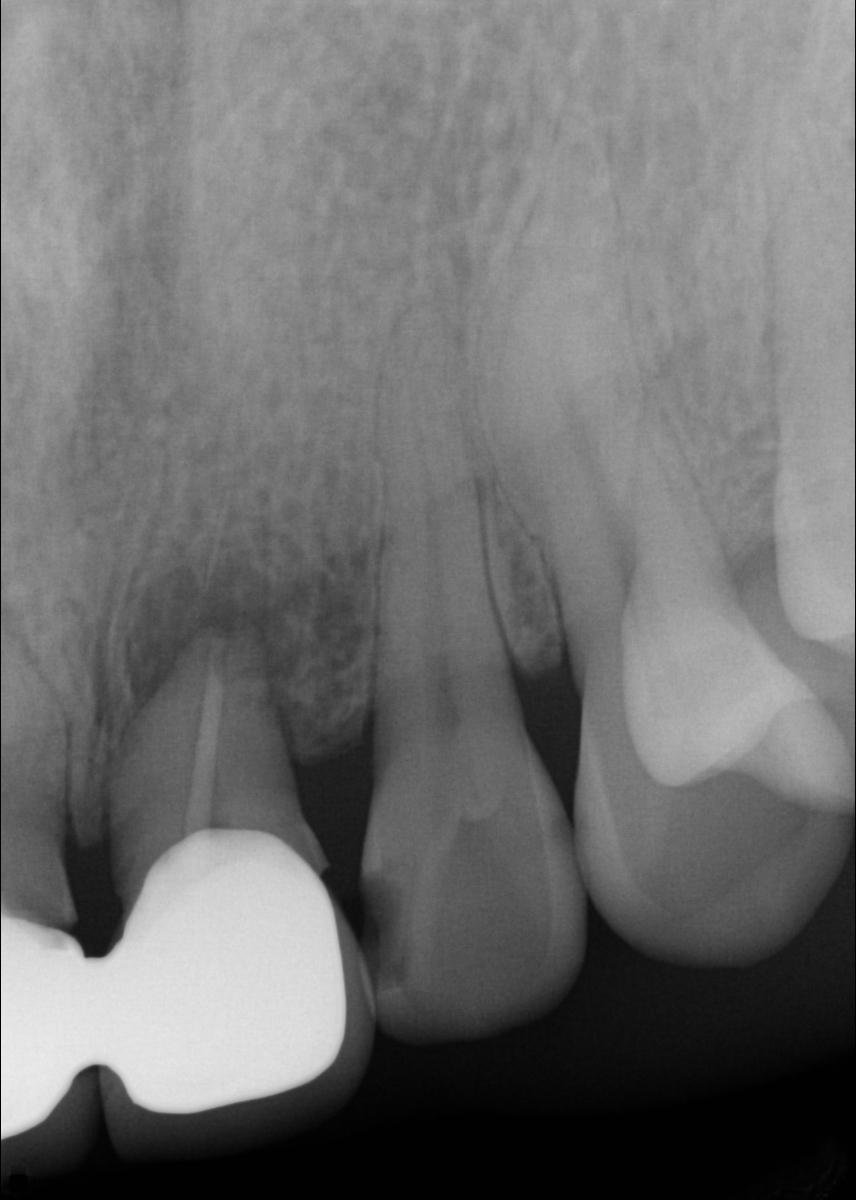Furcation Involvement: (117, 558, 365, 711)
